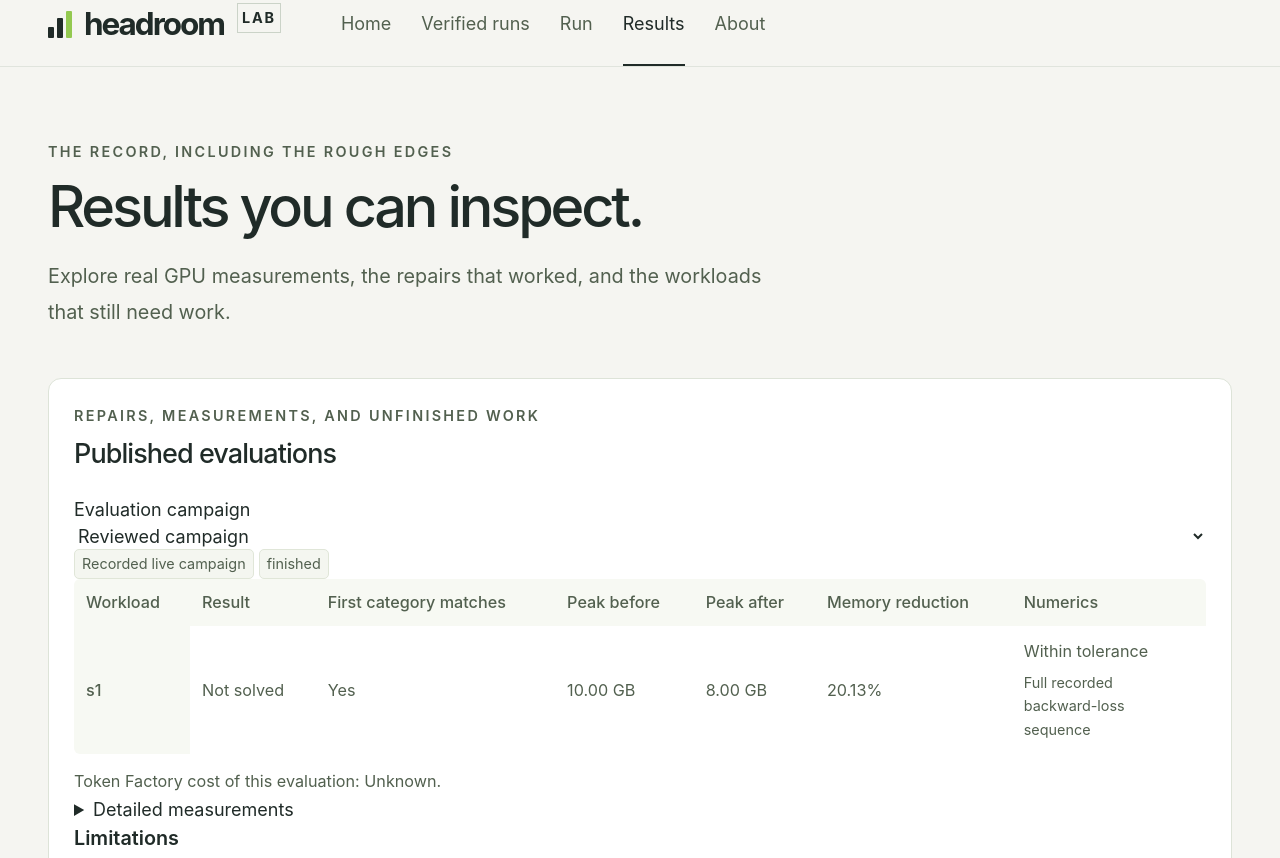
Test: published evaluation results › shows paired conditions and exclusions without hiding unscored groups
This screenshot has width=1280, height=858.
Click the heading "Detailed measurements" at (193, 809), box [93,799,294,820]
(page scrolled)
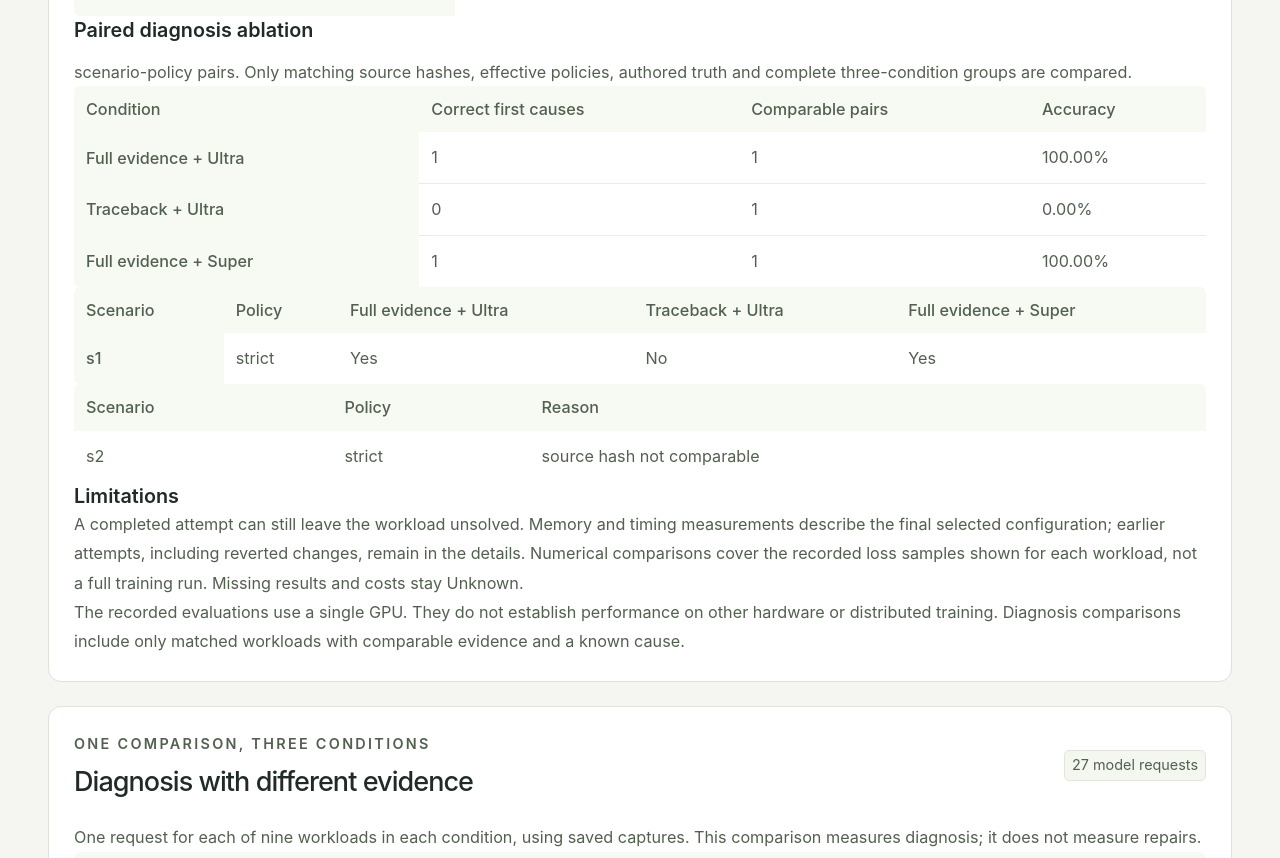
Check: the text "100.00%" is shown 2 times, box [1030,132,1206,184]; [1030,235,1206,287]
Check: the text "0.00%" is shown, box [1030,184,1206,235]
Check: the table named "Excluded ablation groups" shows "source hash not comparable", box [542,446,760,466]
